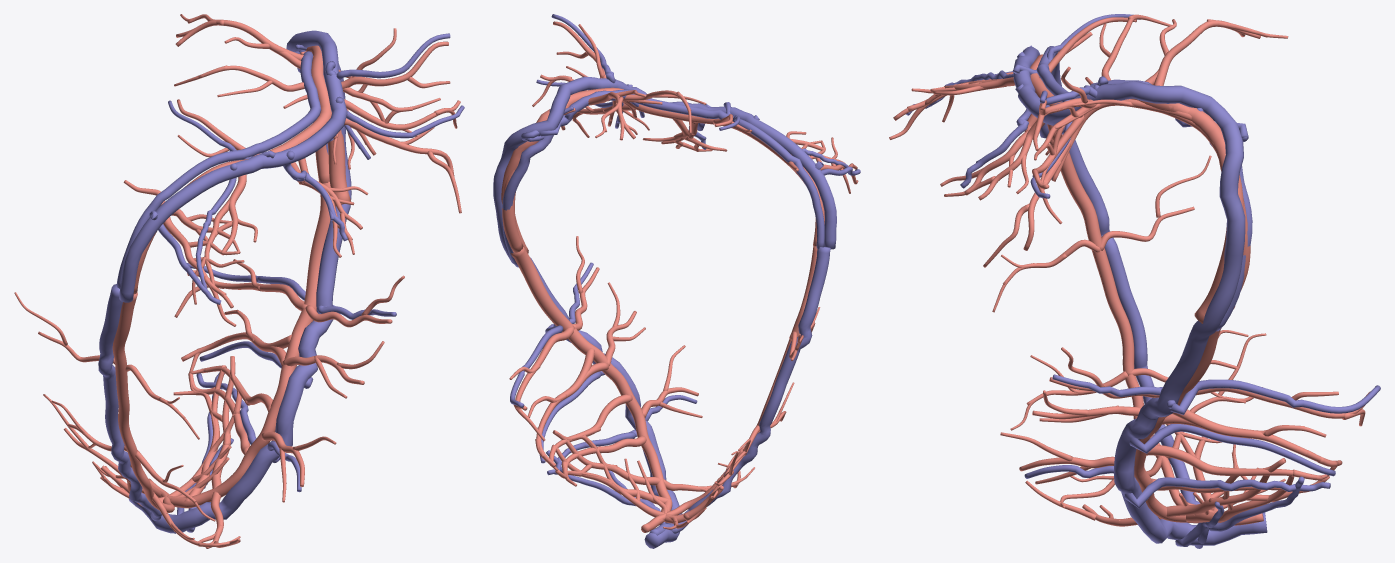
The model's file is vessels_52.glb.
3 renders of one model, left to right at view 1: azimuth 30°, elevation 25°; view 2: azimuth 150°, elevation 25°; view 3: azimuth 270°, elevation 25°, orthographic. The views are drawn at different scales.
Parts seen in each view (by area): view 1: Renderer Node; view 2: Renderer Node; view 3: Renderer Node.
Part boxes in pixels (x1=…): Renderer Node: x1=14, y1=14, x2=464, y2=548; Renderer Node: x1=493, y1=14, x2=860, y2=548; Renderer Node: x1=889, y1=14, x2=1380, y2=548.
Bounding box in the file's own units: 94.8 × 122 × 95.4.
